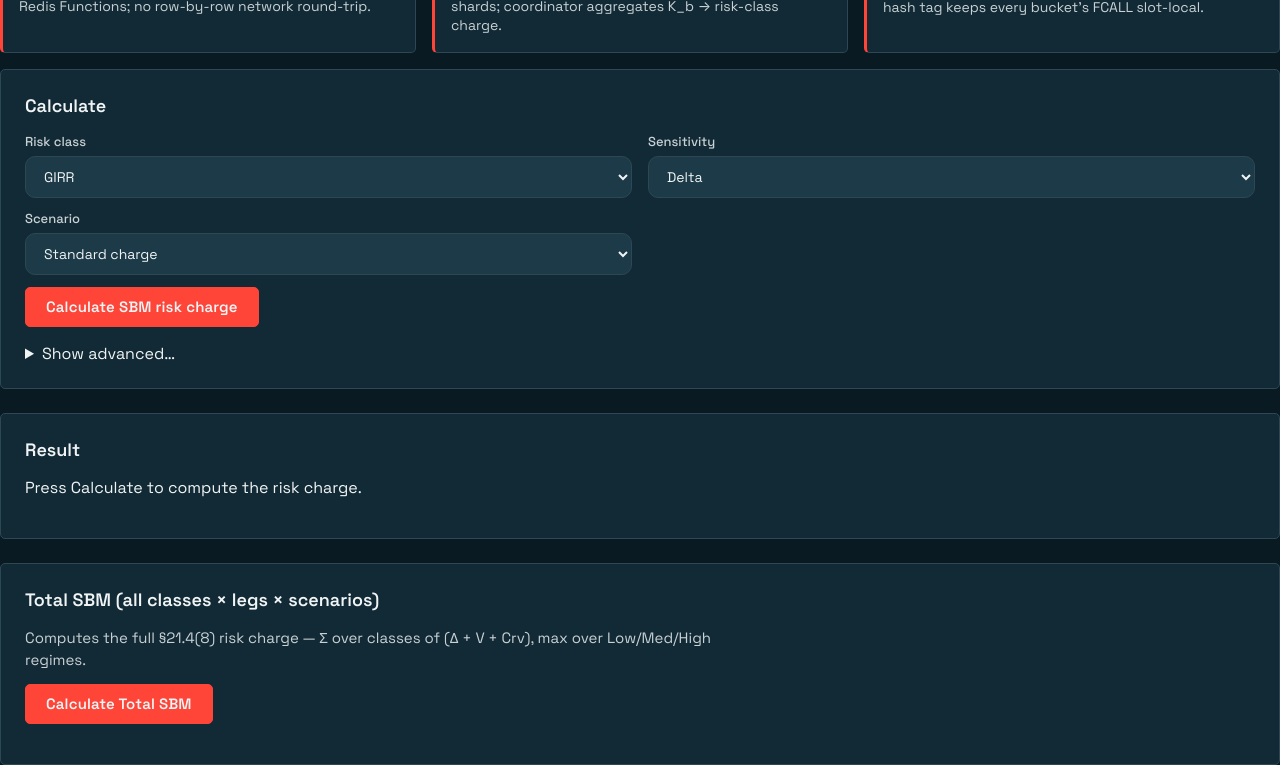
<CalcPanel /> — Total SBM card (Wave 5.96B) › surfaces skipped cell counts in the performance strip
(page scrolled)
Click the button with test id "calc-total-cta". click: point(119, 704)
box: [25,684,213,724]
(page scrolled)
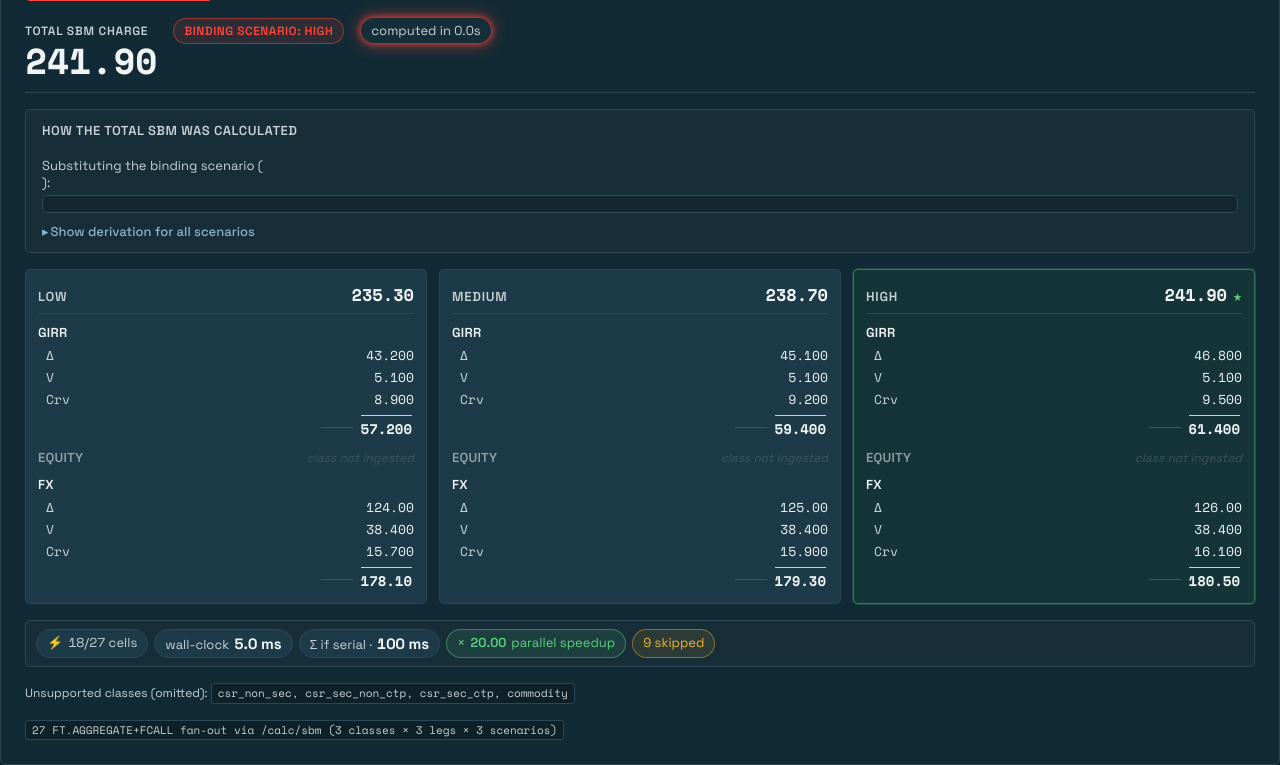
Now the element with test id "calc-total-result" is shown
Now the element with test id "calc-total-performance" shows "9 skipped", box [25,620,1255,667]
